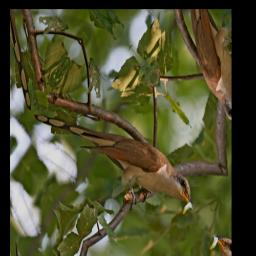Cuckoo: (32, 40, 203, 256)
